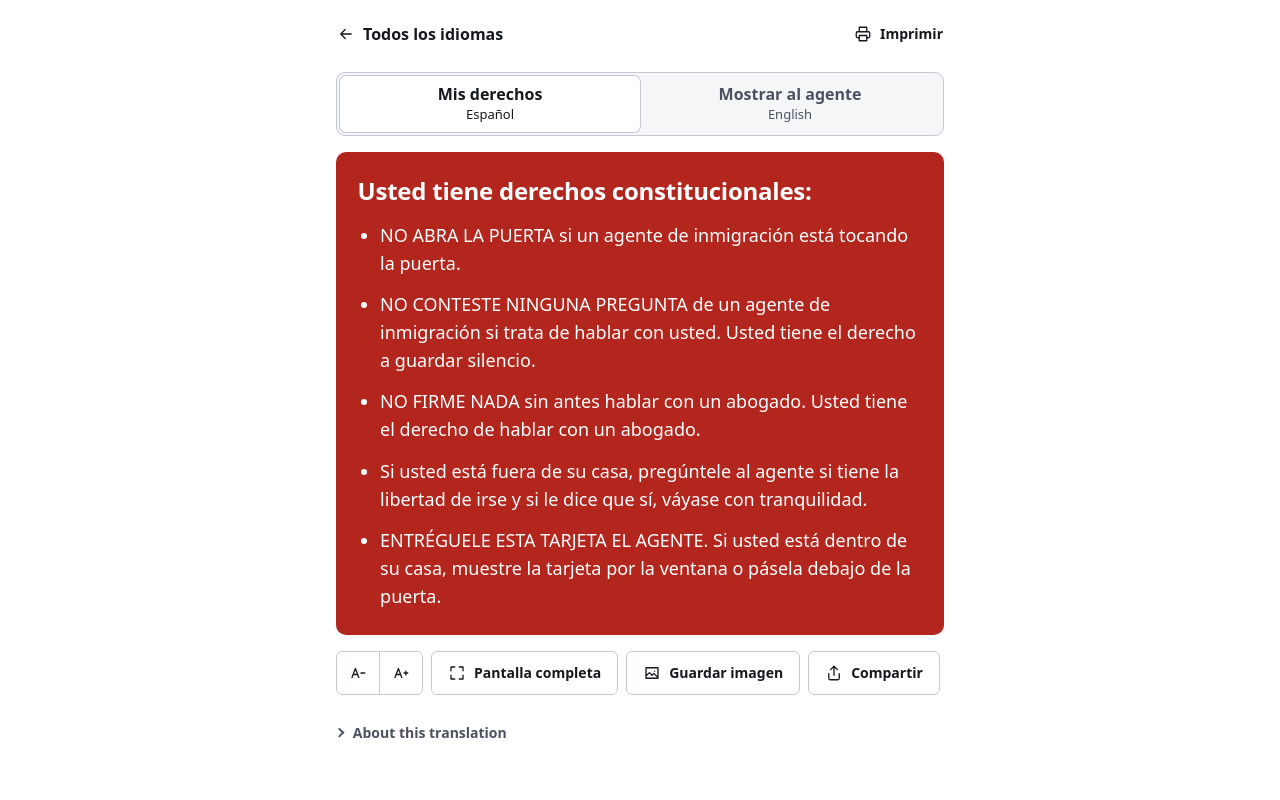
it: card view print link › links to the print page for the same language, in the card's language
This screenshot has width=1280, height=800.
Click the link "Imprimir". click: (898, 34)
box: [854,24,943,43]
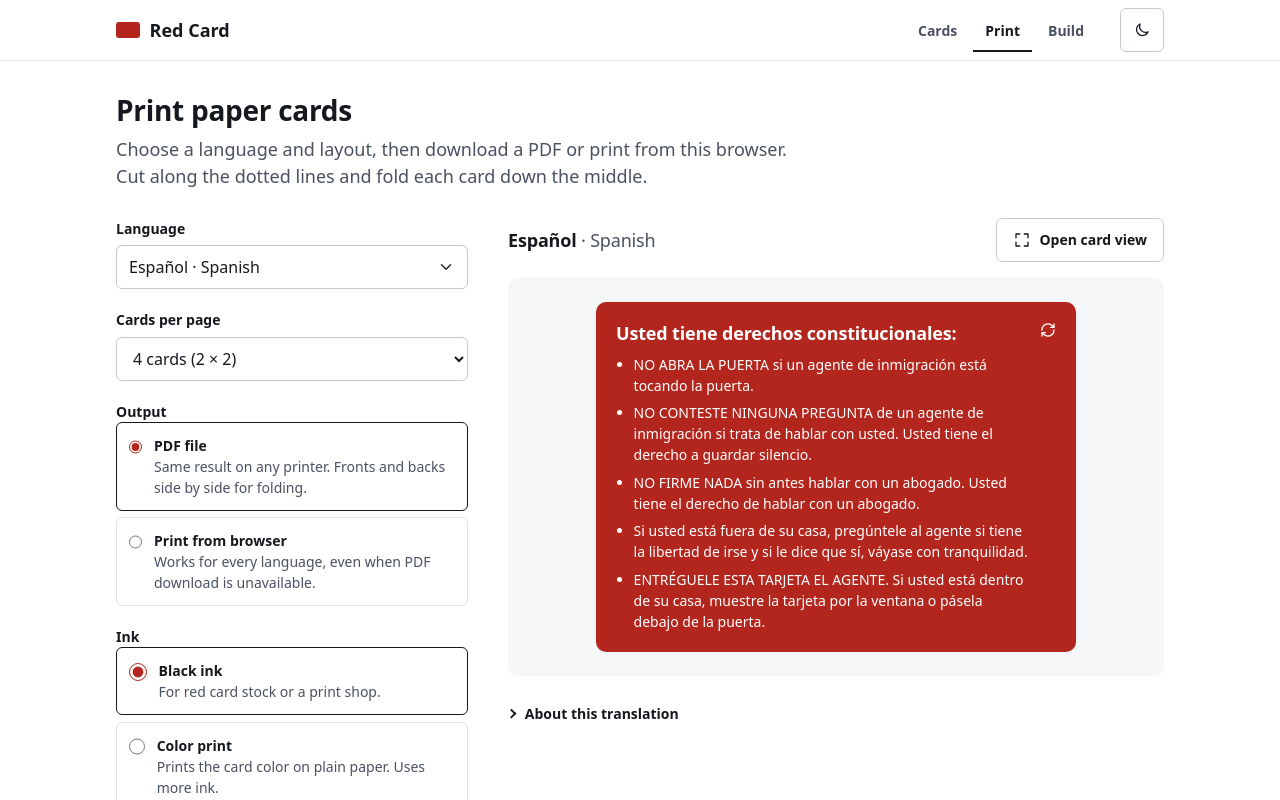
expect the heading "Print paper cards" is shown: met, box [116,91,352,129]
